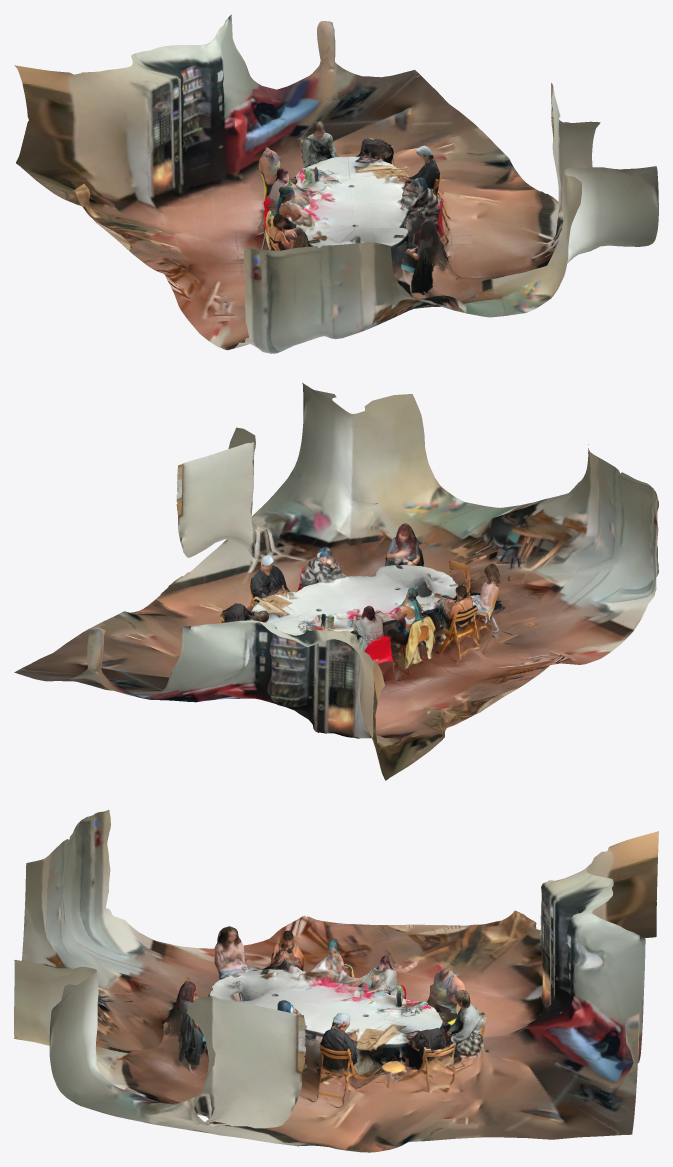
3 renders of one model, top to bottom at view 1: azimuth 30°, elevation 25°; view 2: azimuth 150°, elevation 25°; view 3: azimuth 270°, elevation 25°, orthographic. The views are drawn at different scales.
Parts seen in each view (by area): view 1: photogrammetry; view 2: photogrammetry; view 3: photogrammetry.
Boxes of the visible parts, x1,y1,x2,y2 form: photogrammetry: (14,14,658,353); photogrammetry: (14,382,658,780); photogrammetry: (14,809,658,1152).
Size of the model in its own units: 6.73 by 2.15 by 8.42.
1 material, 1 textured.
